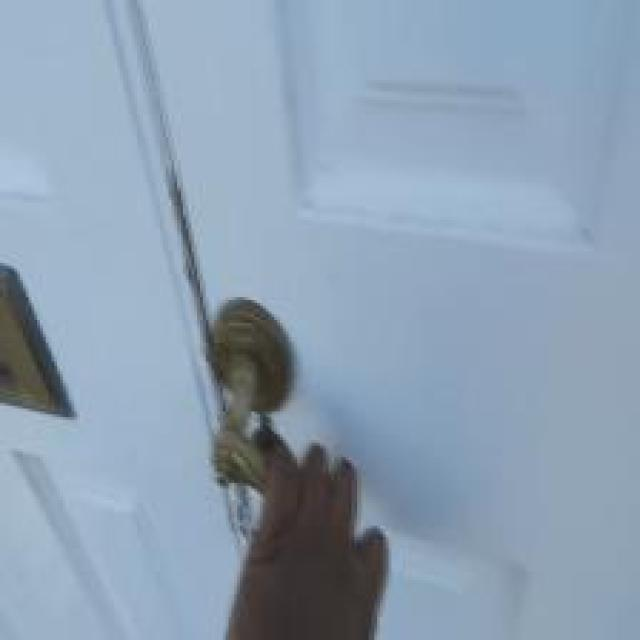other: (197, 300, 285, 472)
